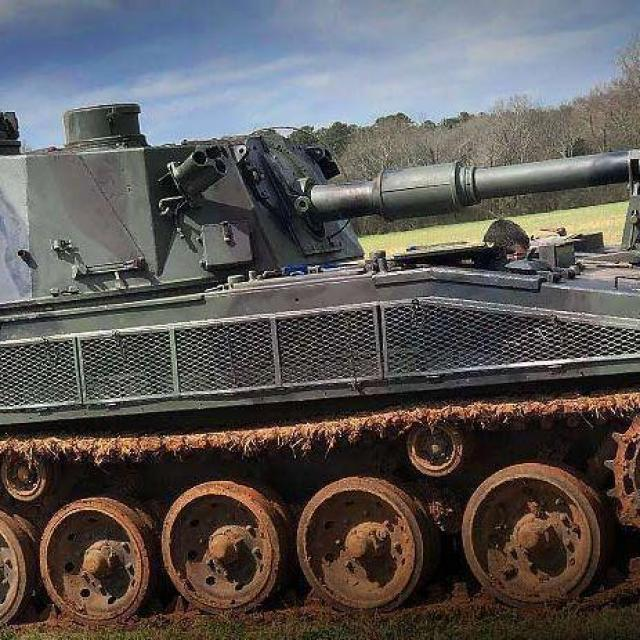Tanks: (3, 102, 623, 600)
